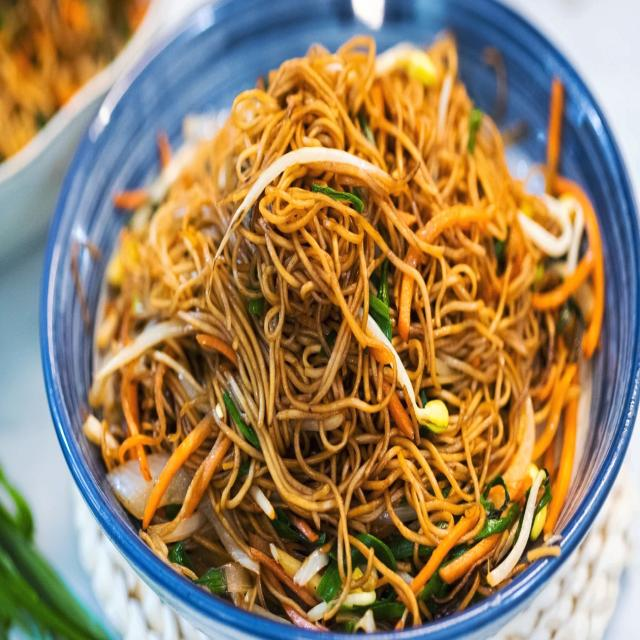Chow Mein: (84, 35, 613, 629)
